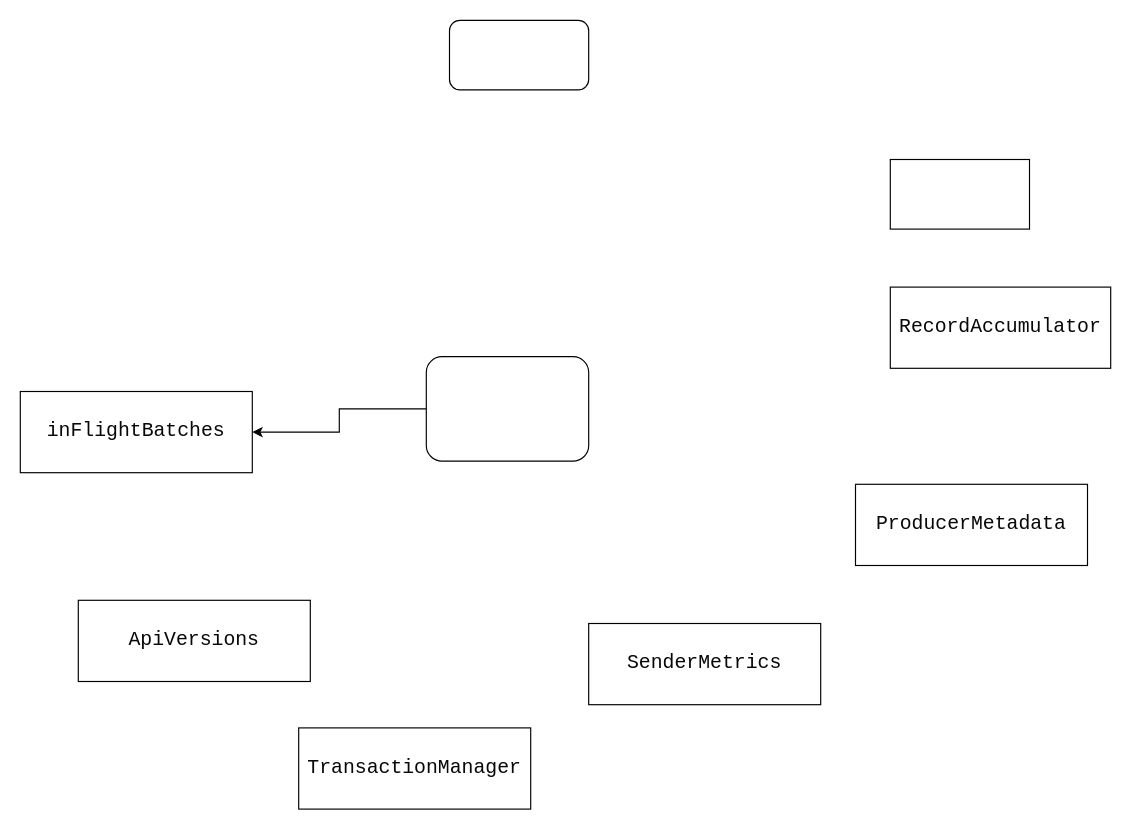
The diagram is 1131 pixels wide and 829 high, and some of its shapes have lost their labels. Each missing label, with the box of its shape:
KafkaClient: (889, 158, 1030, 229)
Runnable: (448, 19, 589, 90)
Sender: (425, 356, 589, 461)
